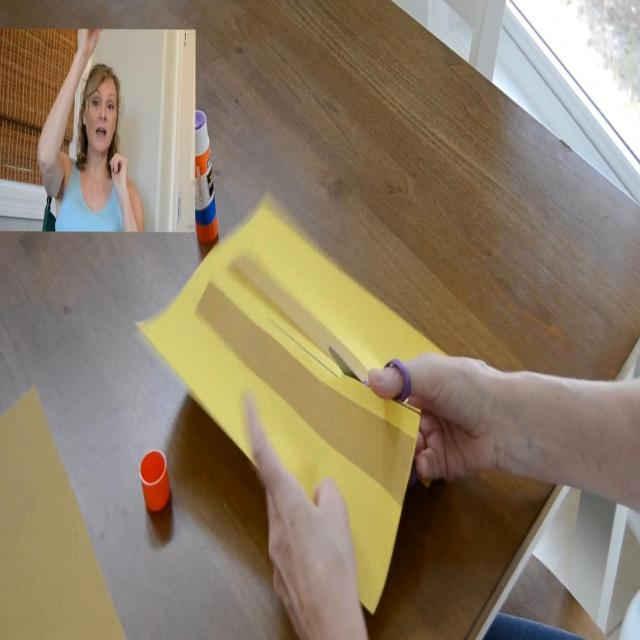scissor: (329, 346, 412, 402)
